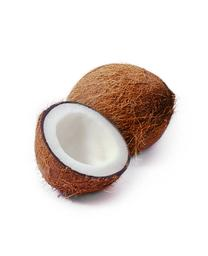coconut: (67, 63, 175, 158), (34, 101, 131, 196)
